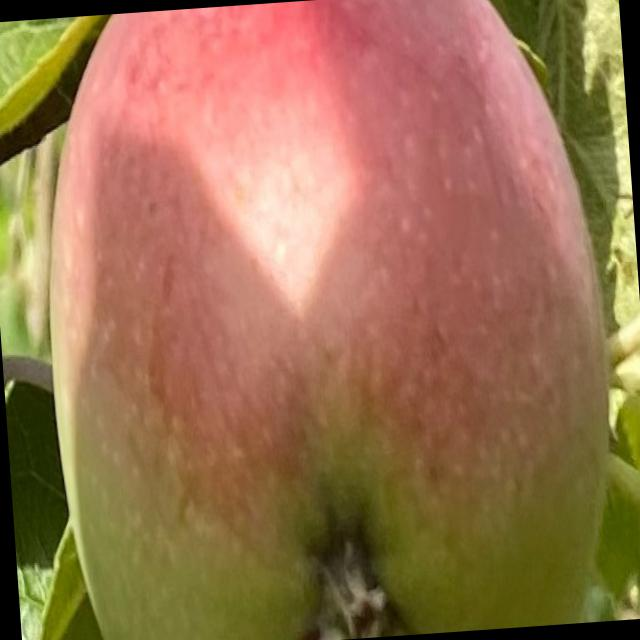Apples: (25, 0, 624, 639)
